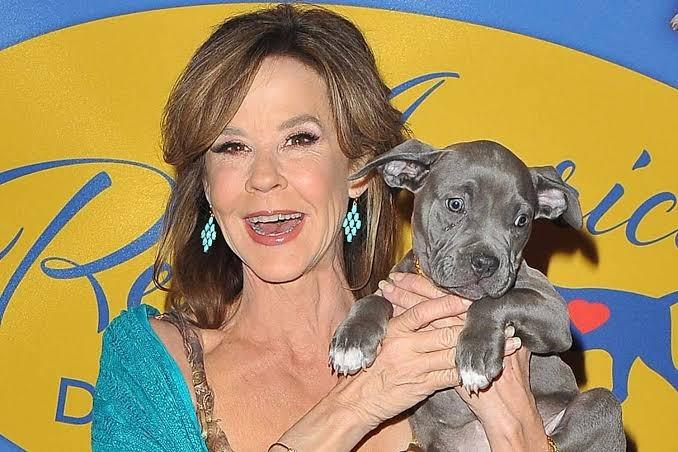non-dog: (88, 7, 538, 452)
puppy-dog: (328, 137, 629, 452)
